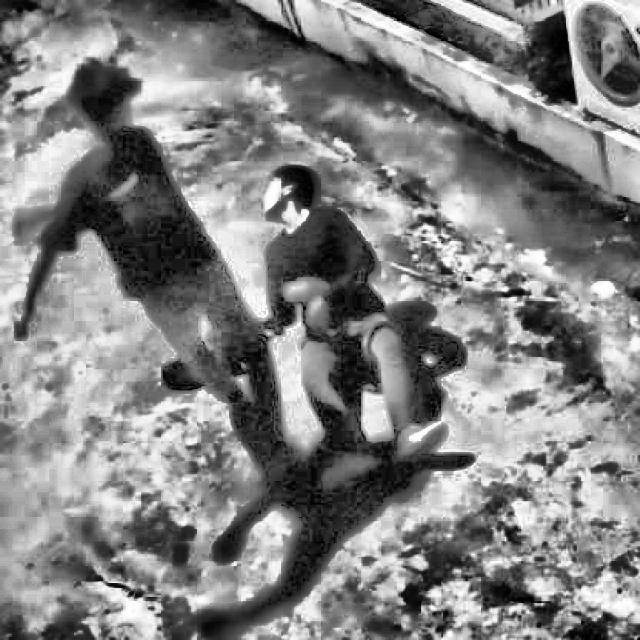robbery: (5, 42, 479, 591)
